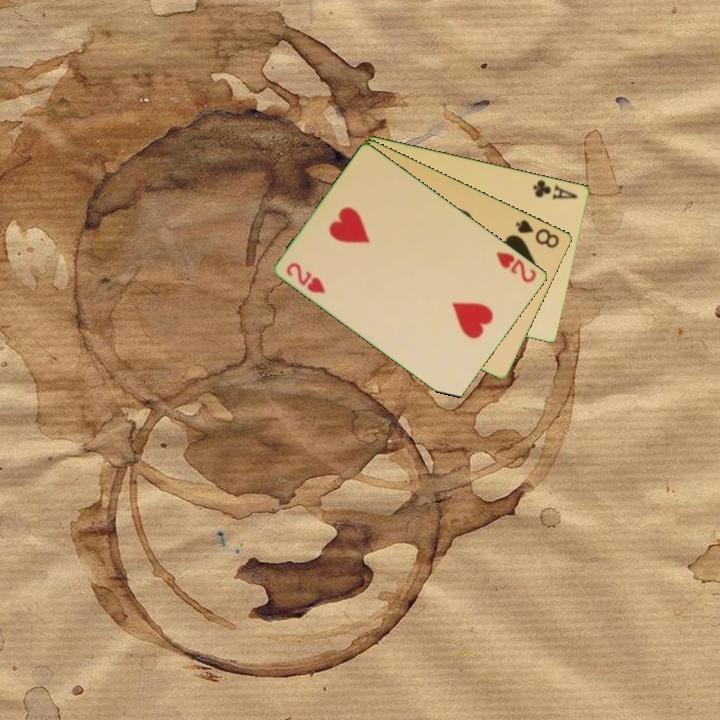2h: (493, 248, 540, 286), (283, 259, 329, 296)
8s: (512, 216, 562, 251)
Ac: (529, 176, 581, 203)
